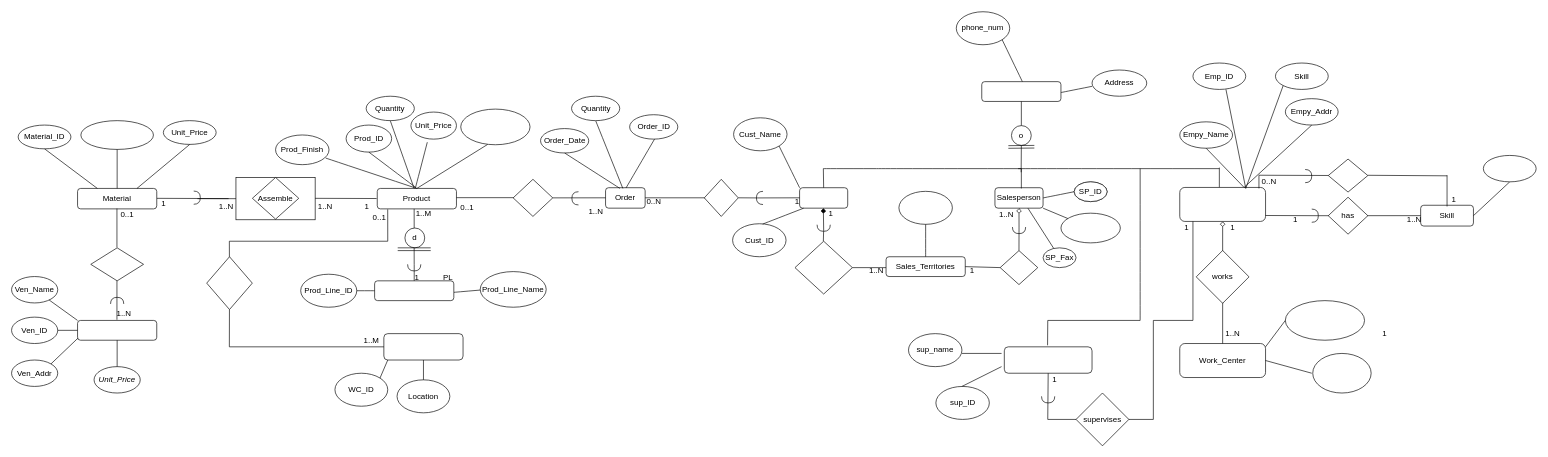
The diagram is 1548 pixels wide and 457 high, and some of its shapes have lost their labels. Each missing label, with the box of its shape:
Customer: (799, 187, 848, 208)
does buisness: (794, 241, 852, 294)
Employee: (1179, 187, 1266, 221)
masters: (1328, 158, 1368, 192)
Person: (981, 81, 1061, 101)
Prod_Description: (460, 108, 530, 145)
Produced: (206, 256, 252, 310)
Product_Lines: (374, 280, 454, 301)
request: (512, 179, 553, 216)
serves: (1000, 250, 1038, 285)
SP_Telephone: (1060, 213, 1120, 243)
submit: (704, 179, 738, 216)
Supervisor: (1004, 346, 1092, 373)
Supply: (90, 247, 144, 281)
Territory_ID: (898, 191, 952, 224)
type: (1483, 155, 1536, 182)
Unit_of_Measure: (80, 120, 153, 149)
Vendors: (77, 320, 157, 340)
Work Center: (383, 333, 463, 360)
workcenter_ID: (1312, 353, 1371, 393)
workcenter_name: (1285, 300, 1365, 340)
